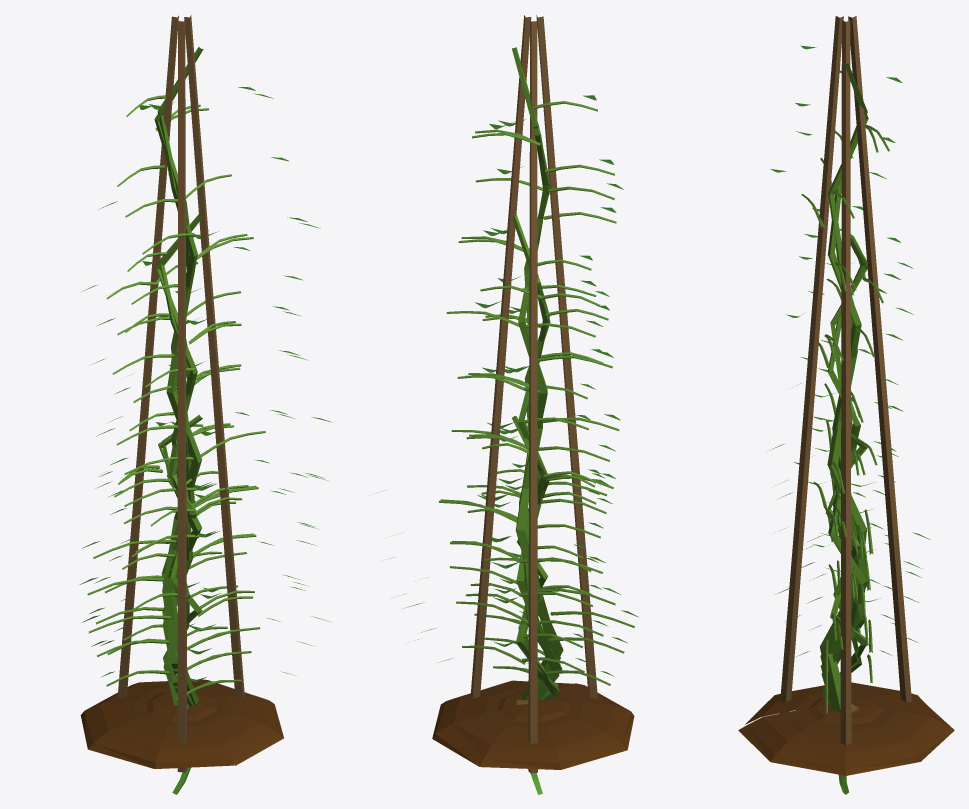
The model's file is beanstalk.glb.
3 views of the same model, side by side, from view 1: azimuth 30°, elevation 25°; view 2: azimuth 150°, elevation 25°; view 3: azimuth 270°, elevation 25° (orthographic).
Visible parts, largest first — view 1: stage2_wood, stage2_soil, stage2_l1_wood, stage4_stem, stage3_stem, stage4_l1_stem, stage2_stem, stage3_l1_stem, stage2_l1_stem, stage0_soil; view 2: stage2_wood, stage2_soil, stage4_stem, stage2_l1_wood, stage3_stem, stage4_l1_stem, stage2_stem, stage3_l1_stem, stage0_soil, stage2_l1_stem, stage4_leaf; view 3: stage2_l1_wood, stage2_soil, stage2_wood, stage4_stem, stage4_l1_stem, stage3_stem, stage3_l1_stem, stage2_stem, stage0_soil, stage2_l1_stem, stage4_leaf.
Part boxes in pixels (x1,y1,x2,y2): stage2_wood: (117,15,244,772); stage2_soil: (80,679,283,768); stage2_l1_wood: (124,17,244,720); stage4_stem: (88,47,265,705); stage3_stem: (96,214,254,706); stage4_l1_stem: (87,48,260,699); stage2_stem: (106,415,253,710); stage3_l1_stem: (96,215,256,686); stage2_l1_stem: (107,414,254,707); stage0_soil: (145,691,217,721); stage2_wood: (472,15,597,773); stage2_soil: (432,680,634,769); stage4_stem: (439,47,634,660); stage2_l1_wood: (470,15,596,772); stage3_stem: (450,215,624,698); stage4_l1_stem: (440,47,615,700); stage2_stem: (462,416,610,699); stage3_l1_stem: (451,215,606,699); stage0_soil: (497,691,570,722); stage2_l1_stem: (470,416,594,700); stage4_leaf: (390,95,638,617); stage2_l1_wood: (785,16,911,745); stage2_soil: (738,682,954,775); stage2_wood: (779,16,911,745); stage4_stem: (801,64,889,712); stage4_l1_stem: (820,63,878,711); stage3_stem: (818,234,883,707); stage3_l1_stem: (820,238,867,678); stage2_stem: (814,434,877,712); stage0_soil: (800,694,884,724); stage2_l1_stem: (822,433,872,713); stage4_leaf: (770,45,930,594).
Size of the model in its own units: 0.9691 by 2.2 by 0.5542.
